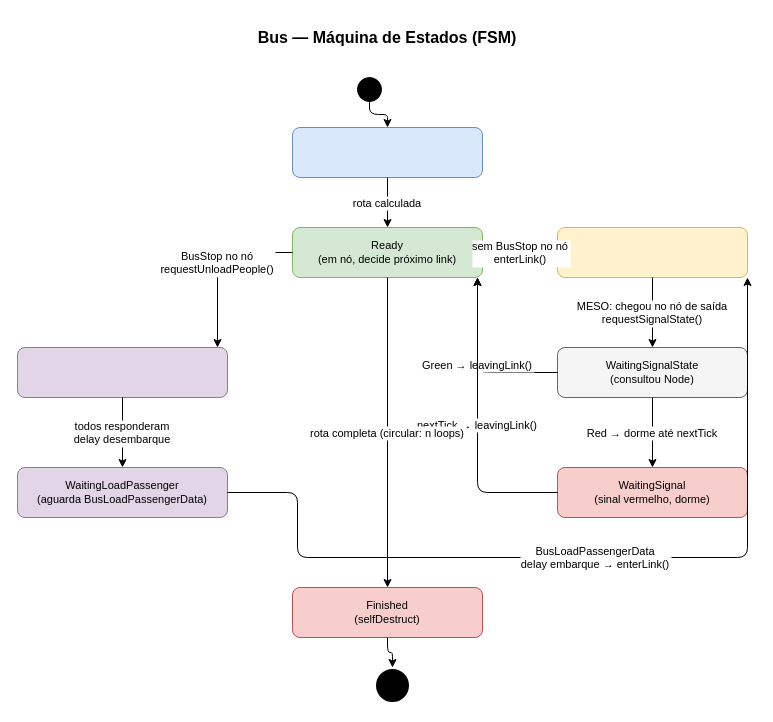
Image size: 773x722. Some labels were removed from this diagram. Here are the shapes that lost their labels. From the top down, the centre of each, then its label:
At (x=387, y=152): "Start (requestRoute via GPSUtil)".
At (x=652, y=252): "Moving (viajando no link)".
At (x=122, y=372): "WaitingUnloadPassenger (aguarda respostas de Person)".
